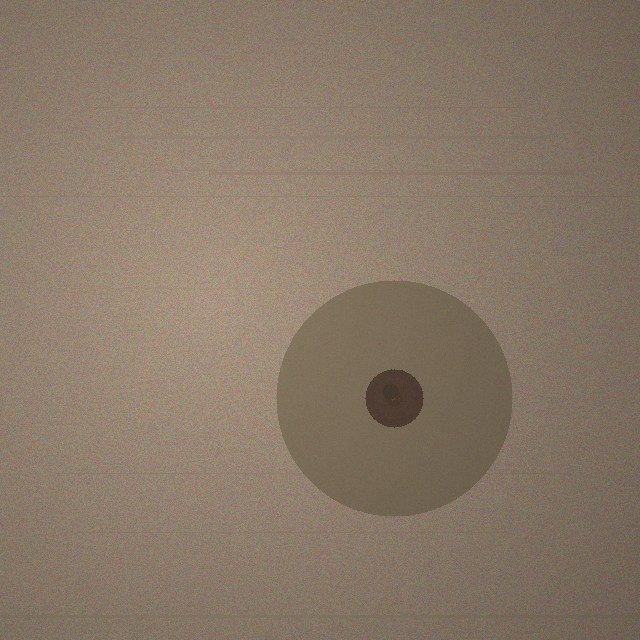cold_weld: (276, 280, 512, 516)
